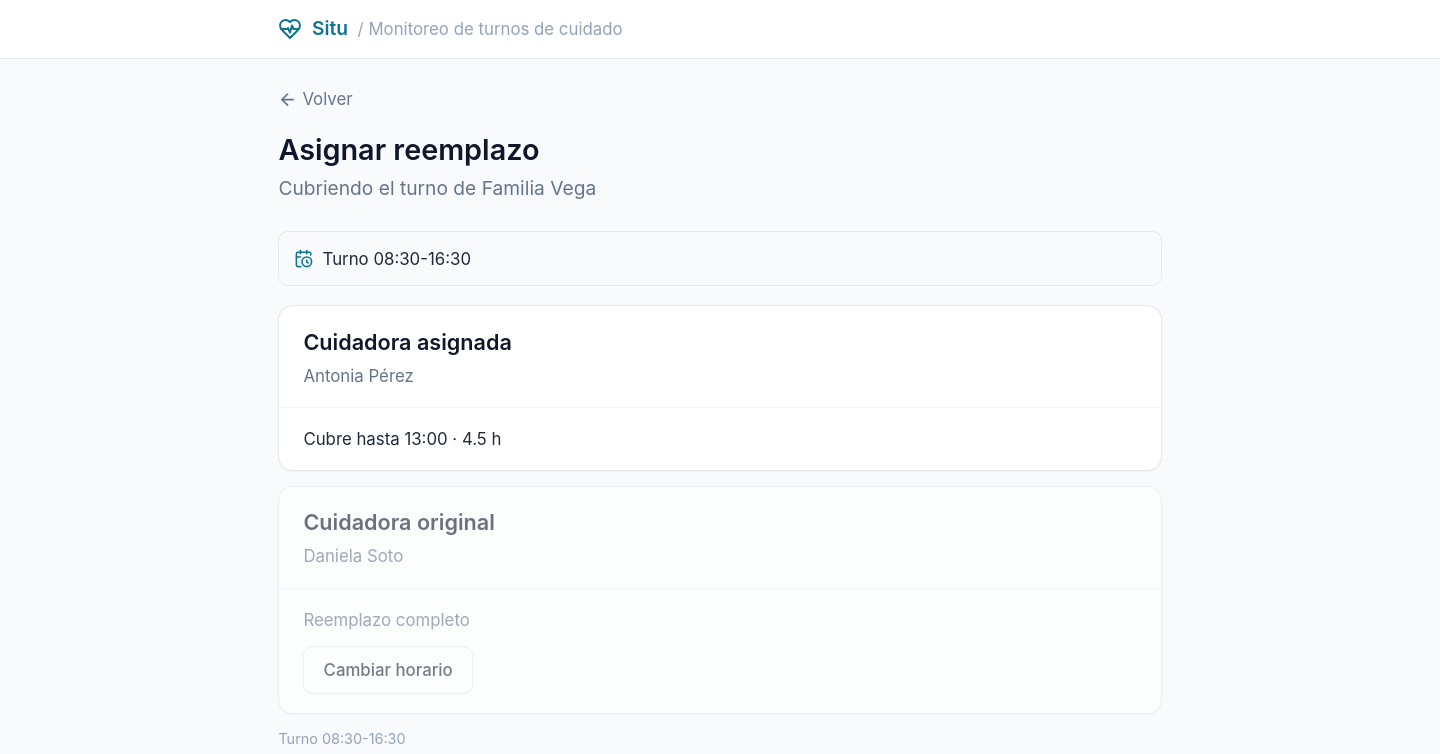
Test: OperationsReplacement › reassigns the original caregiver to the remaining hours after a momentary replacement
The image size is (1440, 754).
Expected: the text "Reemplazo completo" is shown, [303,610,470,630]
Click the button "Cambiar horario": x=388, y=670 [303,646,473,694]
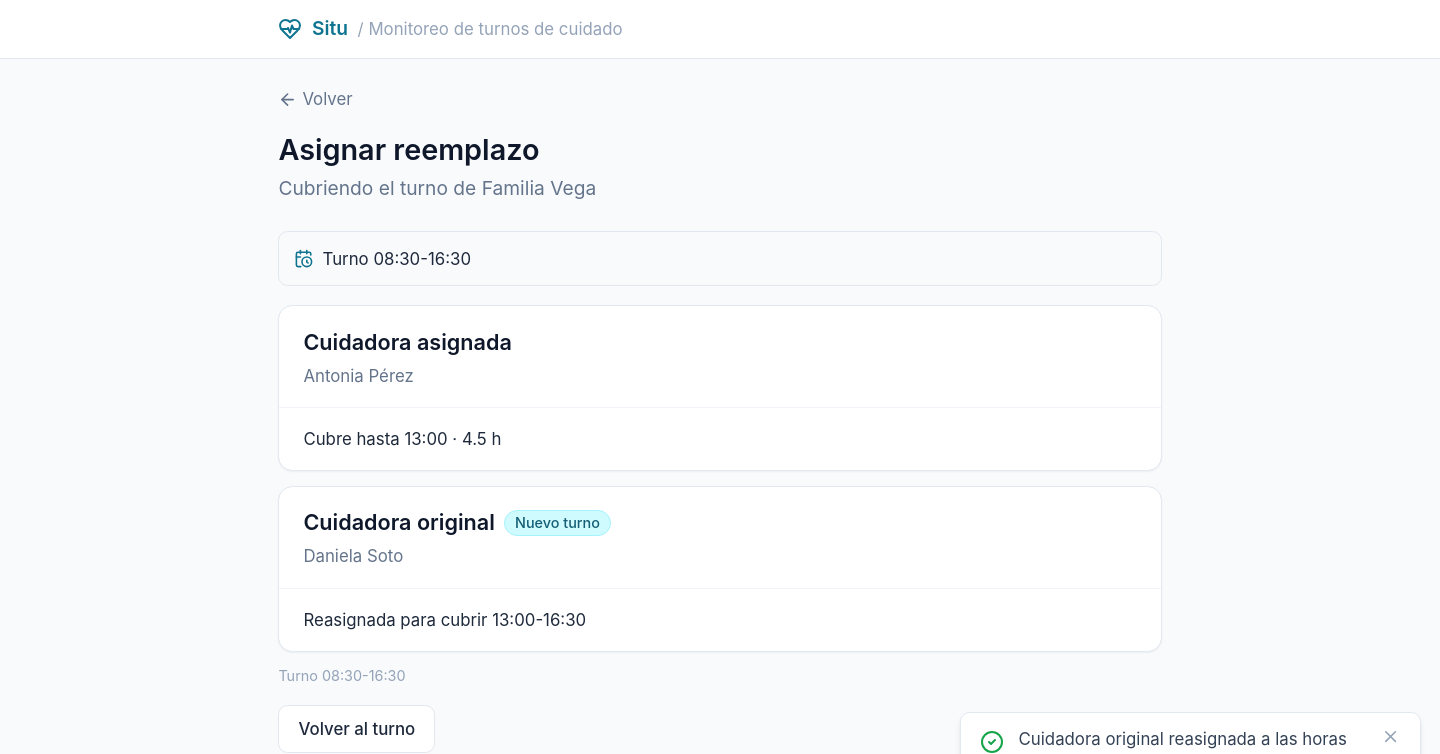
Expected: the text "Nuevo turno" is shown, [504,510,610,536]
